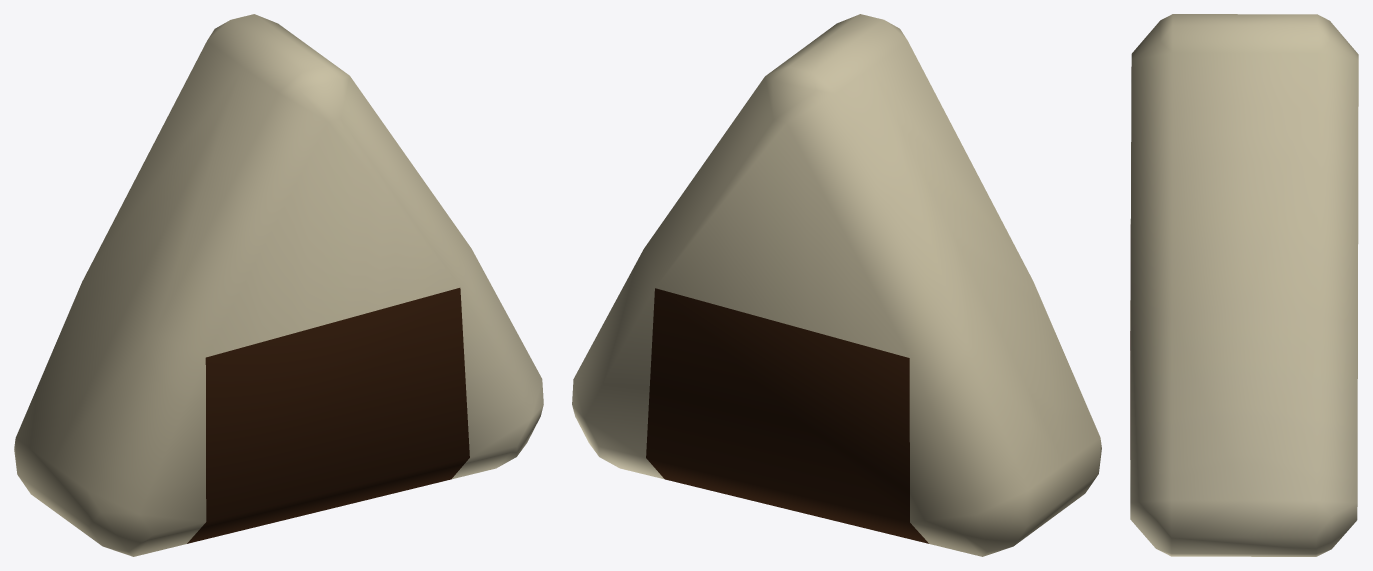
File: Sweets_RiceBall.fbx
3 views of the same model, side by side, from view 1: azimuth 30°, elevation 25°; view 2: azimuth 150°, elevation 25°; view 3: azimuth 270°, elevation 25° (orthographic).
Parts seen in each view (by area): view 1: Sweets_RiceBall; view 2: Sweets_RiceBall; view 3: Sweets_RiceBall.
Boxes of the visible parts, x1,y1,x2,y2 form: Sweets_RiceBall: [14, 14, 543, 556]; Sweets_RiceBall: [572, 14, 1101, 556]; Sweets_RiceBall: [1130, 14, 1358, 556].
Bounding box in the file's own units: 0.1792 × 0.1669 × 0.0771.
Materials: 1 (1 with a texture image).
